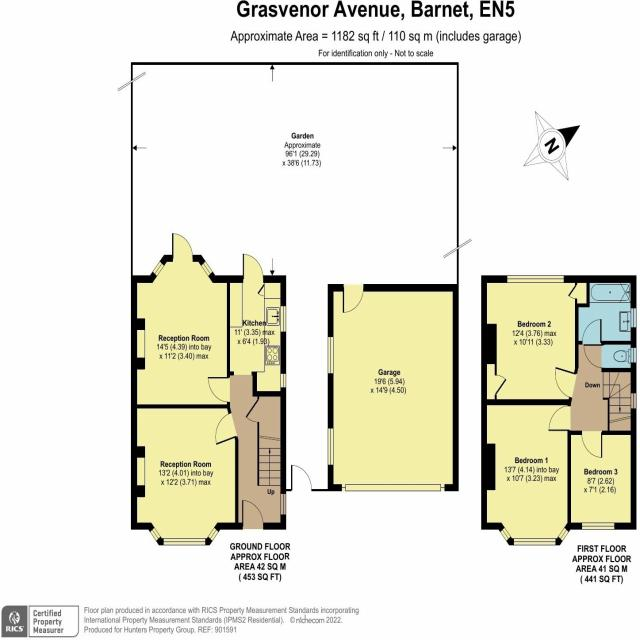DOOR: (215, 411, 238, 446), (241, 499, 265, 530), (206, 374, 230, 404), (342, 283, 365, 314), (290, 463, 313, 491), (171, 230, 194, 256), (242, 252, 264, 279)
ROOM: (130, 231, 230, 410), (130, 404, 239, 547), (480, 274, 591, 406), (480, 399, 572, 547), (227, 252, 288, 397), (567, 430, 637, 531)
WINDOW: (162, 538, 207, 546), (280, 304, 287, 332), (328, 336, 333, 375), (328, 427, 333, 466), (201, 261, 213, 277), (152, 261, 164, 277), (150, 527, 161, 542), (208, 527, 219, 542), (281, 493, 286, 515), (281, 372, 286, 389)
